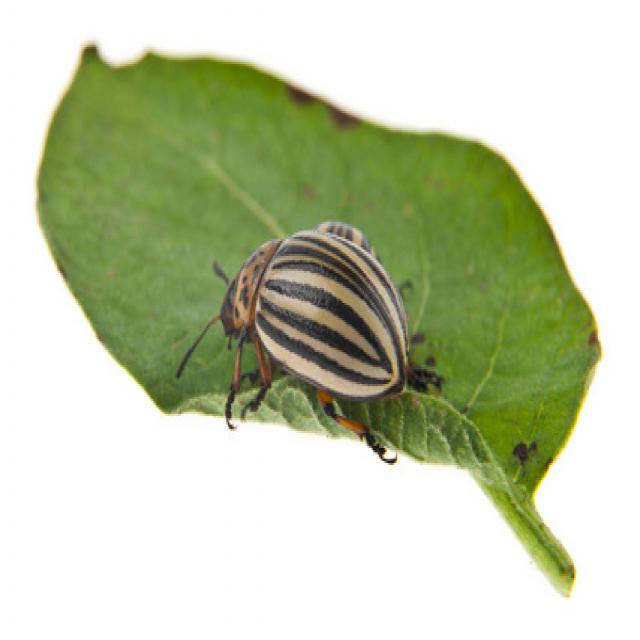ShuCaiHuaBanChong-Grown-: (220, 232, 436, 437)
